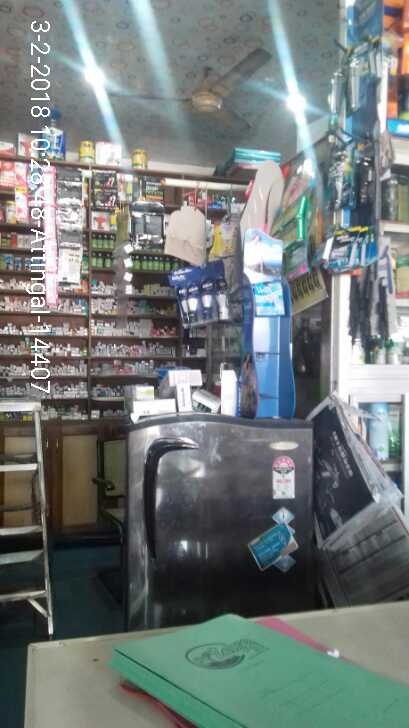reject: (74, 156, 144, 218)
